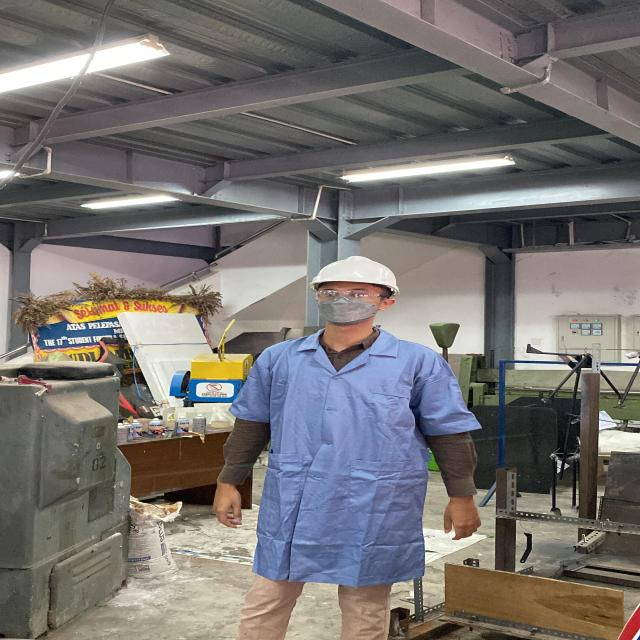face_mask: (312, 286, 380, 324)
glasses: (311, 287, 393, 305)
hand_noglove: (432, 498, 492, 542), (198, 489, 255, 530)
head_helmet: (306, 252, 402, 292)
person: (179, 244, 521, 640)
